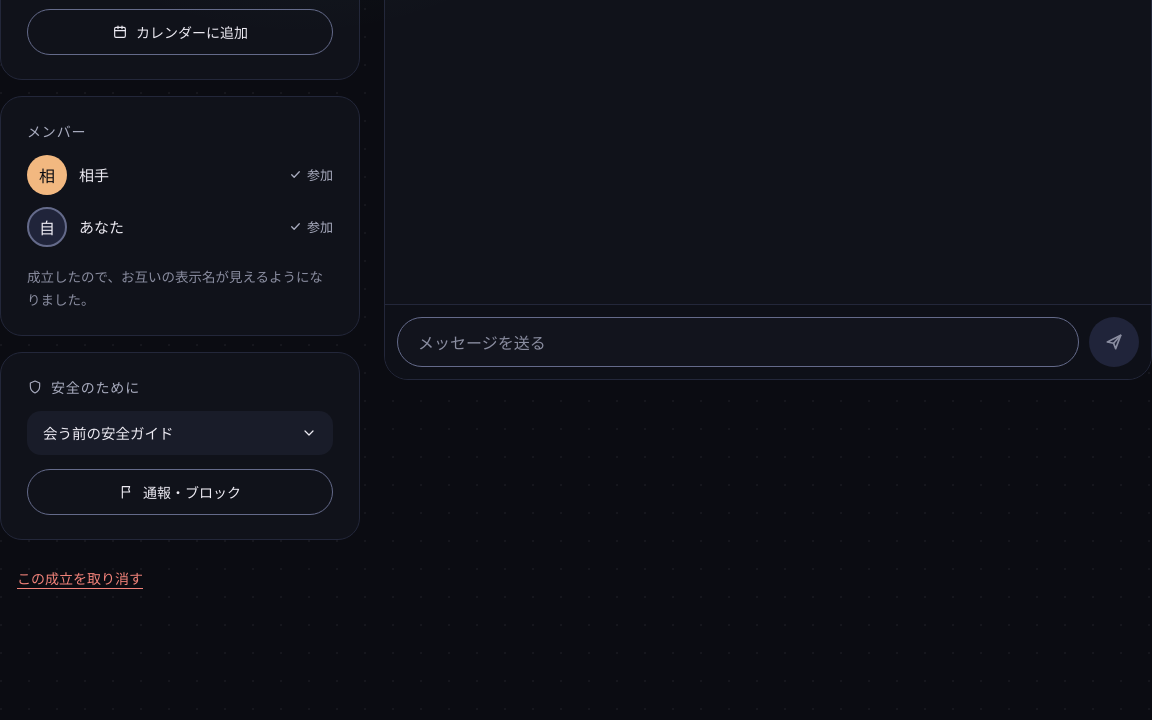
Test case: 05 成立姿(全面再構成・プロトタイプ05) › 通報・ブロック(aside)は統合dialogをparticipantsつきで開く(D-09)
(page scrolled)
Click the button "通報・ブロック" at (180, 492), box [27,469,333,515]
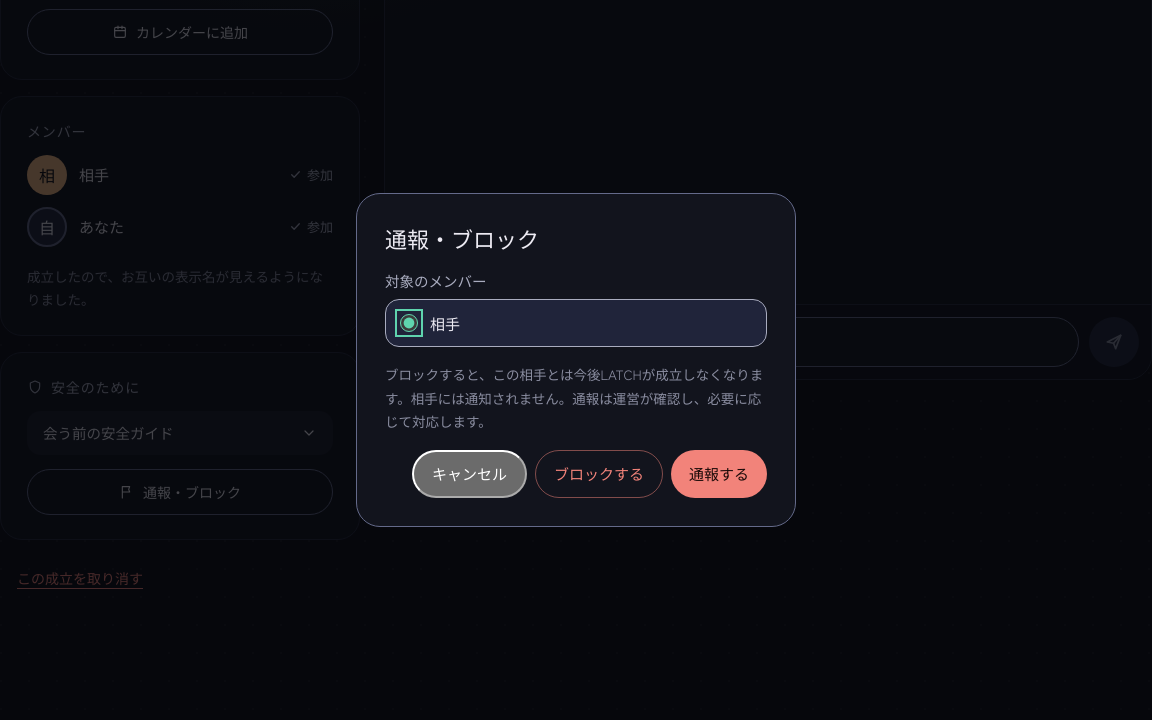
Now the radio button named "safety-who" is checked, box [400,314,418,332]
Now the dialog with id "safetyDialog" shows "相手", box [430,313,460,334]
Now the button "ブロックする" is shown, box [535,450,663,498]
